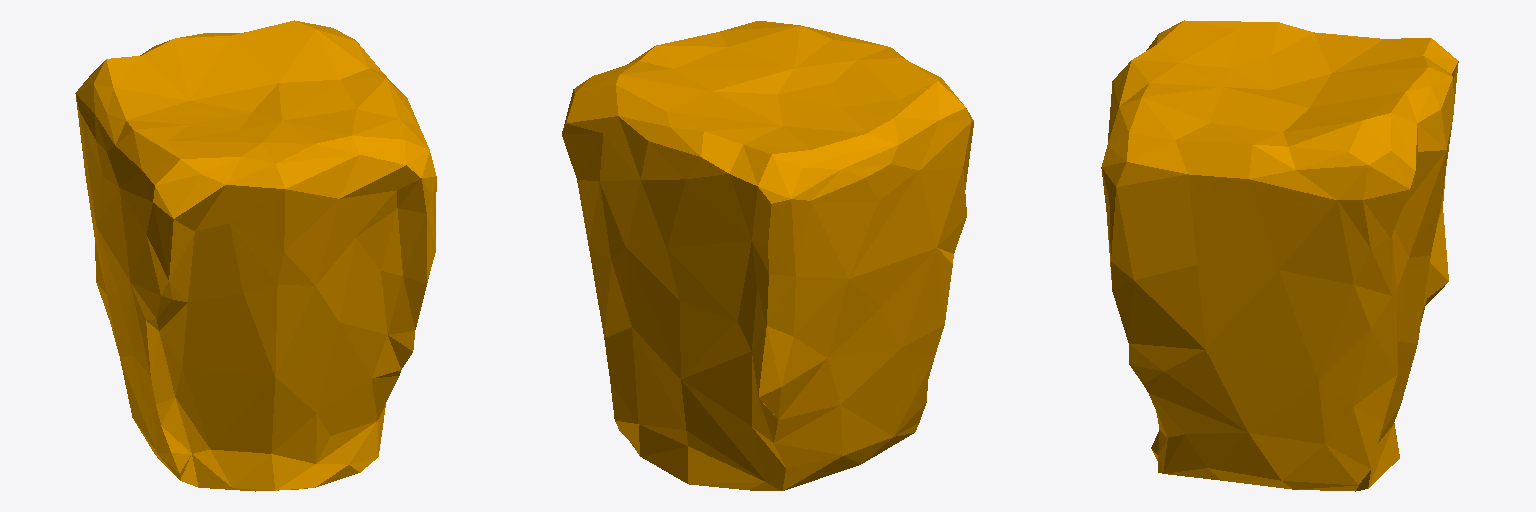
robot.urdf — cup_noodles_chicken:
<?xml version="1.0"?>
<robot name="cup_noodles_chicken">
  <link name="base_link">
    <contact>
      <lateral_friction value="1.0"/>
      <rolling_friction value="0.0"/>
      <contact_cfm value="0.0"/>
      <contact_erp value="1.0"/>
    </contact>
    <inertial>
      <mass value="0.463645019328"/>
      <inertia ixx="1" ixy="0" ixz="0" iyy="1" iyz="0" izz="1"/>
    </inertial>
    <visual>
      <geometry>
        <mesh filename="cup_noodles_chicken_visual.obj"/>
      </geometry>
    </visual>
    <collision>
      <geometry>
        <mesh filename="cup_noodles_chicken_collision.obj"/>
      </geometry>
    </collision>
  </link>
</robot>

--- Render facts (derived) ---
The picture shows the robot from 3 angles, left to right: view 1: azimuth 30°, elevation 25°; view 2: azimuth 150°, elevation 25°; view 3: azimuth 270°, elevation 25°; orthographic projection.
Robot: cup_noodles_chicken — 1 links, 0 joints (none); root link base_link; default pose: every joint at zero.
Links seen in each view (by area): view 1: base_link; view 2: base_link; view 3: base_link.
Link boxes in pixels (box(x1,y1,x2,y2)): base_link: box(75, 20, 436, 491); base_link: box(562, 21, 973, 490); base_link: box(1101, 20, 1458, 491).
Size in the robot's own frame: 0.1002 by 0.0987 by 0.119 metres.
Meshes: 1 distinct files referenced, 1 mesh visuals loaded (1 OBJ).